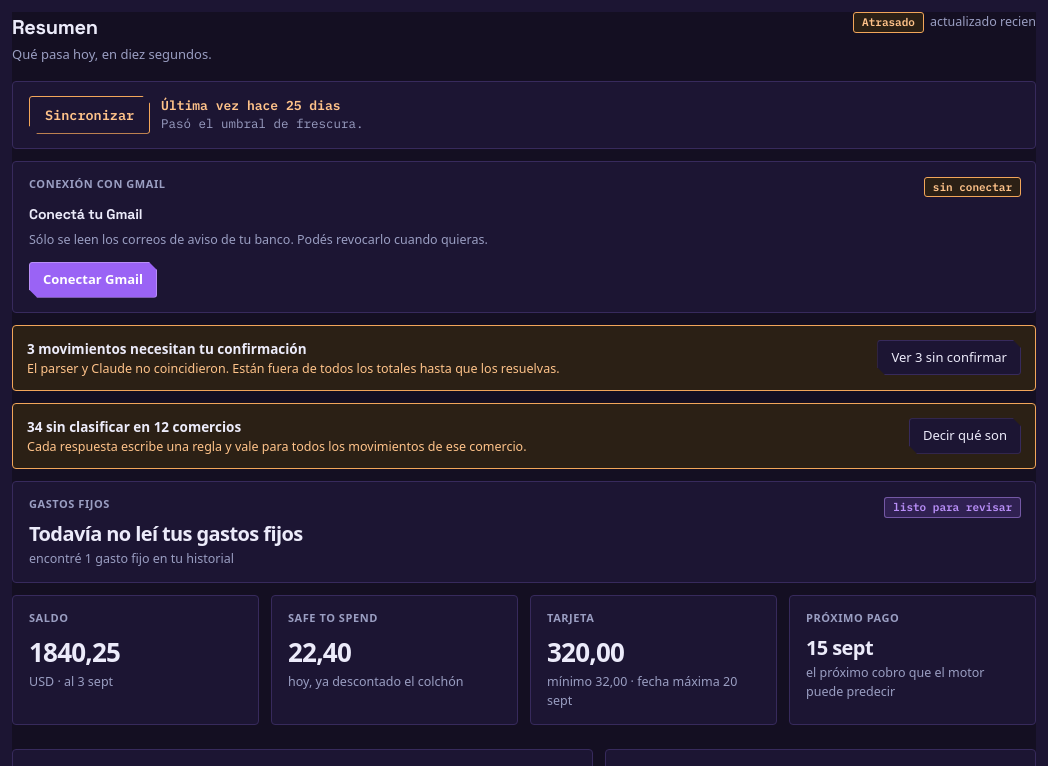
el sync vive adentro del chip › un 503 ofrece conectar Gmail en la misma pantalla
Click the button with test id "sync-button-accion": click(90, 115) [29,96,150,134]
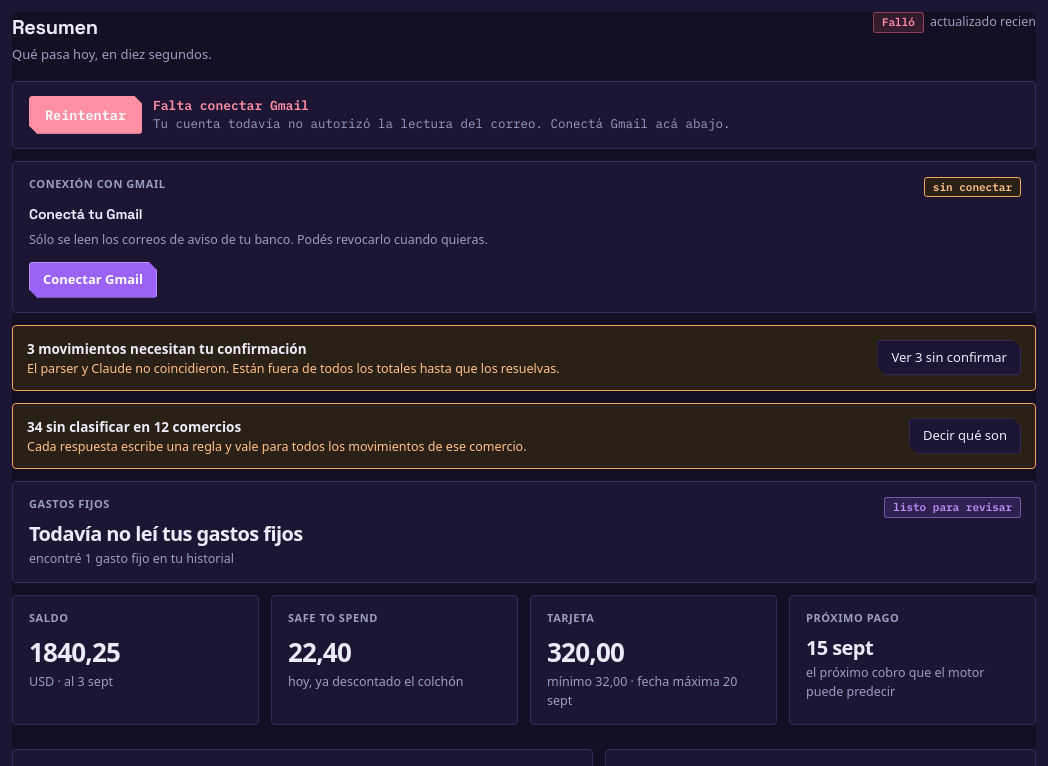
Check: the button with test id "conectar-gmail-accion" shows "Conectar", box [29,262,157,298]
Check: the text with test id "sync-button-titulo" reads "Falta conectar Gmail", box [153,97,309,114]
